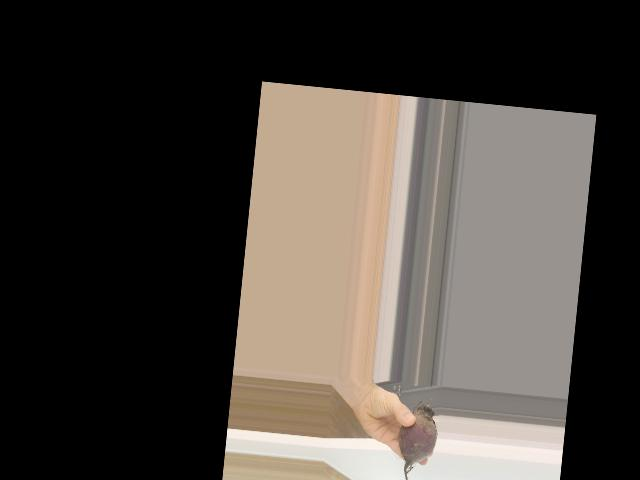beet: (392, 398, 440, 480)
